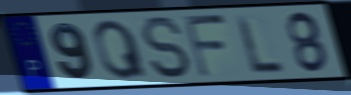8: (286, 9, 329, 75)
9: (48, 20, 96, 83)
F: (181, 14, 230, 80)
L: (233, 13, 287, 76)
Q: (92, 18, 150, 82)
S: (138, 15, 194, 81)
